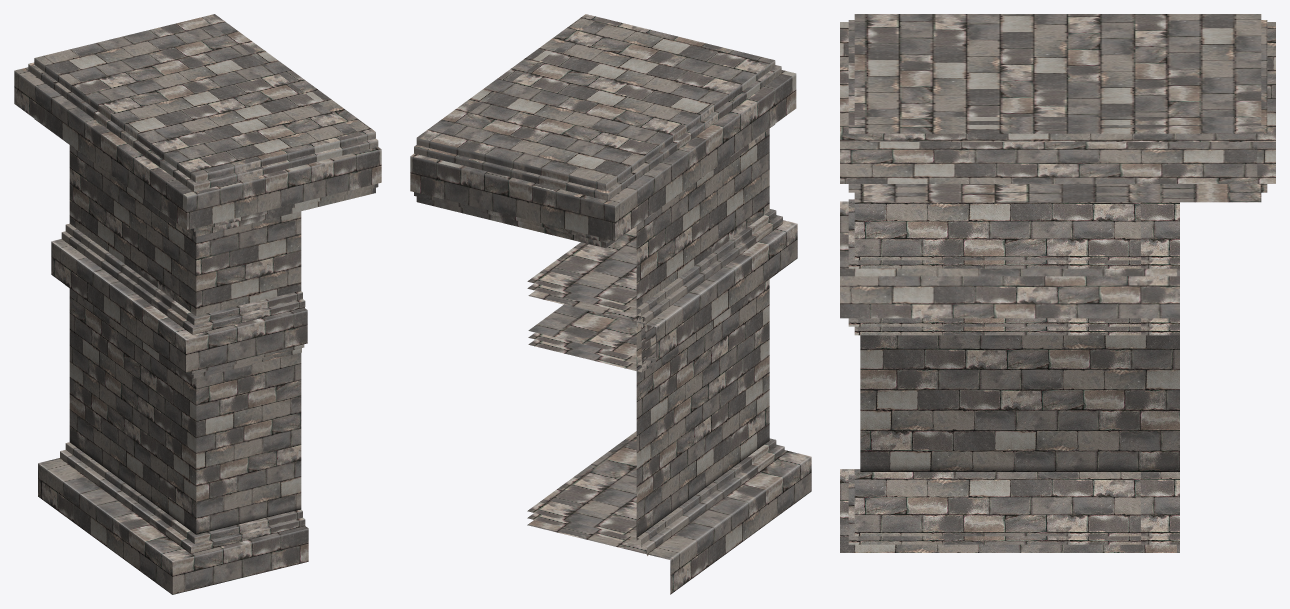
Rendered from Gate_G.FBX.
The picture shows the model from 3 angles, left to right: view 1: azimuth 30°, elevation 25°; view 2: azimuth 150°, elevation 25°; view 3: azimuth 270°, elevation 25°; orthographic projection. The views are drawn at different scales.
Visible parts, largest first — view 1: Gate_G; view 2: Gate_G; view 3: Gate_G.
Boxes of the visible parts, left/top/right/bottom form: Gate_G: left=14, top=14, right=381, bottom=594; Gate_G: left=410, top=14, right=811, bottom=594; Gate_G: left=840, top=14, right=1275, bottom=552.
Bounding box in the file's own units: 2.64 × 4.91 × 3.77.
